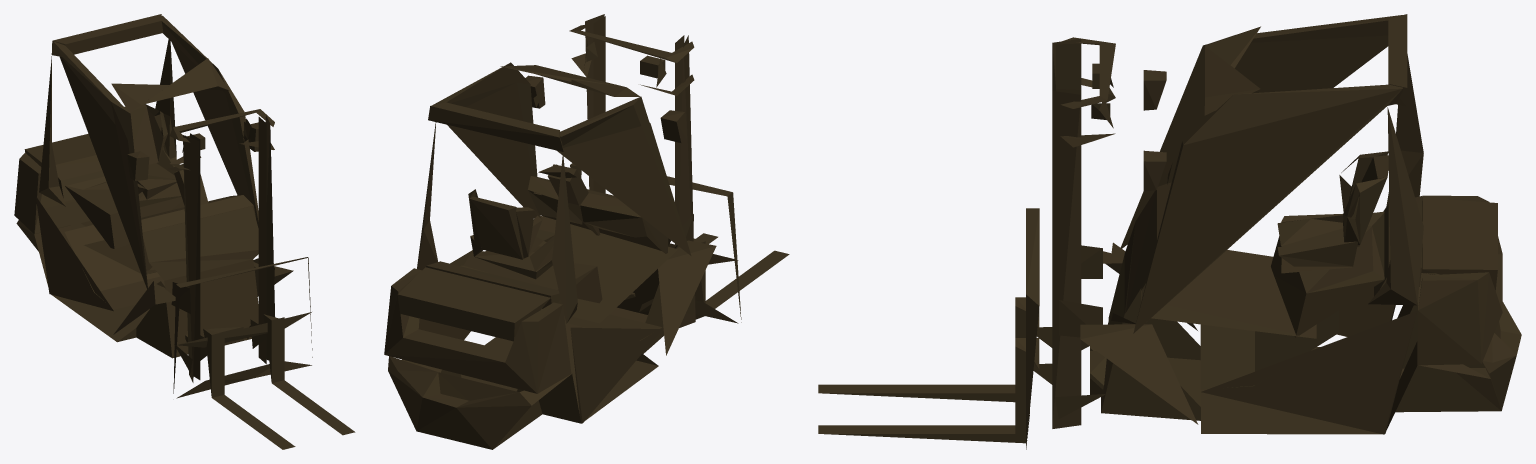
File: forklift.lod1.glb
3 views of the same model, side by side, from view 1: azimuth 30°, elevation 25°; view 2: azimuth 150°, elevation 25°; view 3: azimuth 270°, elevation 25° (orthographic). The views are drawn at different scales.
Parts seen in each view (by area): view 1: Loader_car_Loader_car_Material_0; view 2: Loader_car_Loader_car_Material_0; view 3: Loader_car_Loader_car_Material_0.
Boxes of the visible parts, x1,y1,x2,y2 form: Loader_car_Loader_car_Material_0: (14,14,355,449); Loader_car_Loader_car_Material_0: (384,14,789,449); Loader_car_Loader_car_Material_0: (818,14,1521,449).
Bounding box in the file's own units: 1 × 1.81 × 3.15.
